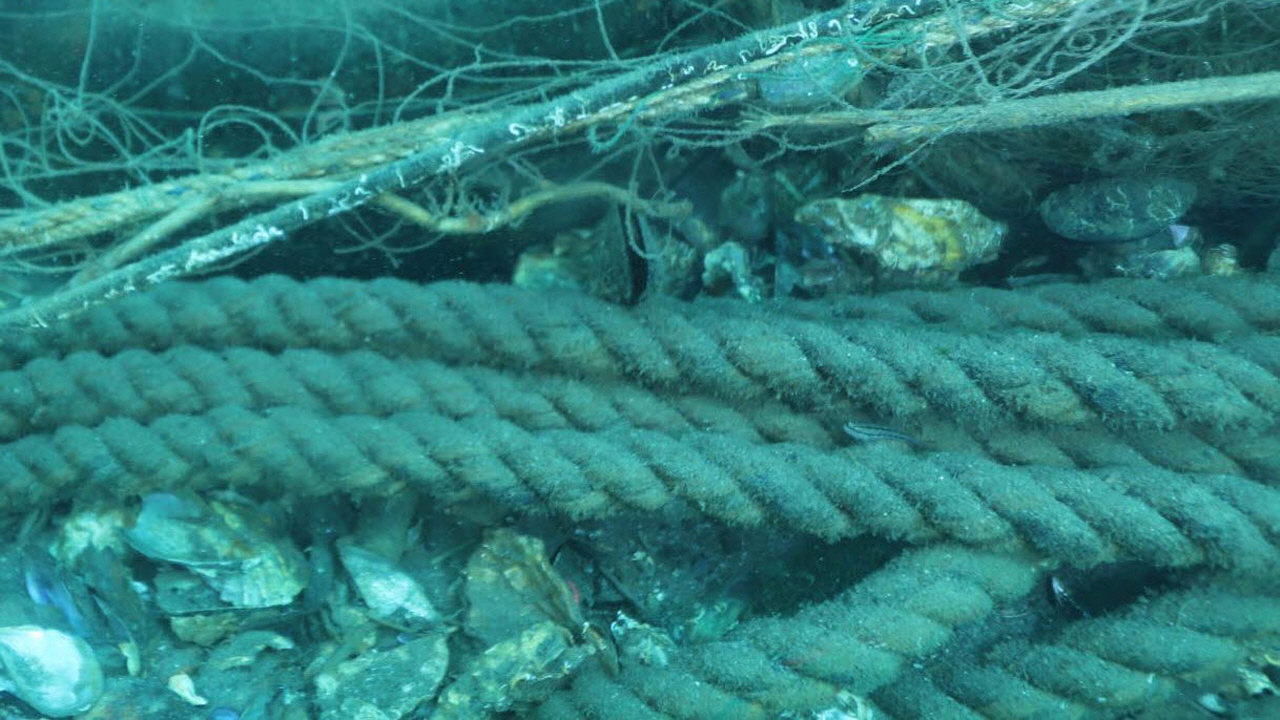bundle of ropes: (0, 267, 1278, 720), (0, 0, 1072, 258), (762, 67, 1280, 139)
